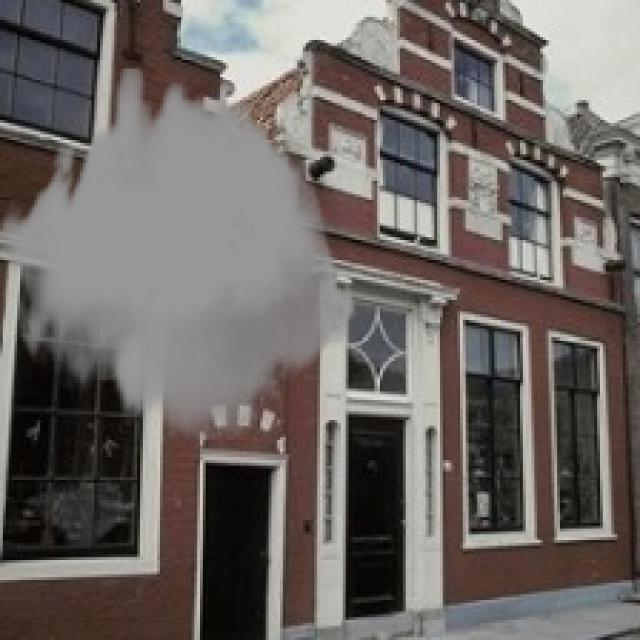smoke: (0, 69, 357, 440)
